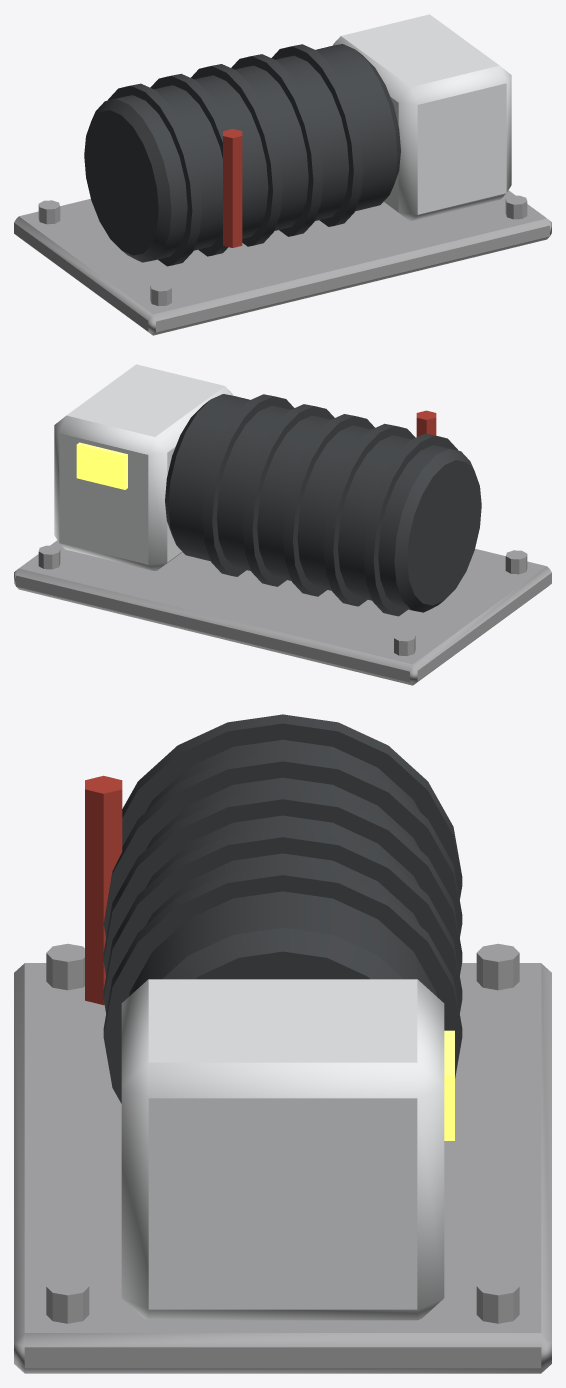
Rendered from sorter_carriage_motor.glb.
3 renders of one model, top to bottom at view 1: azimuth 30°, elevation 25°; view 2: azimuth 150°, elevation 25°; view 3: azimuth 270°, elevation 25°, orthographic. The views are drawn at different scales.
Parts seen in each view (by area): view 1: sorter_carriage_motor; view 2: sorter_carriage_motor; view 3: sorter_carriage_motor.
Boxes of the visible parts, left/top/right/bottom form: sorter_carriage_motor: left=14, top=14, right=551, bottom=335; sorter_carriage_motor: left=14, top=364, right=551, bottom=685; sorter_carriage_motor: left=14, top=714, right=551, bottom=1373.
Bounding box in the file's own units: 0.5 × 0.2125 × 0.3.
